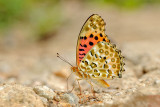Argyreus hyperbius: (55, 10, 125, 103)
butterfly: (54, 12, 124, 105)
